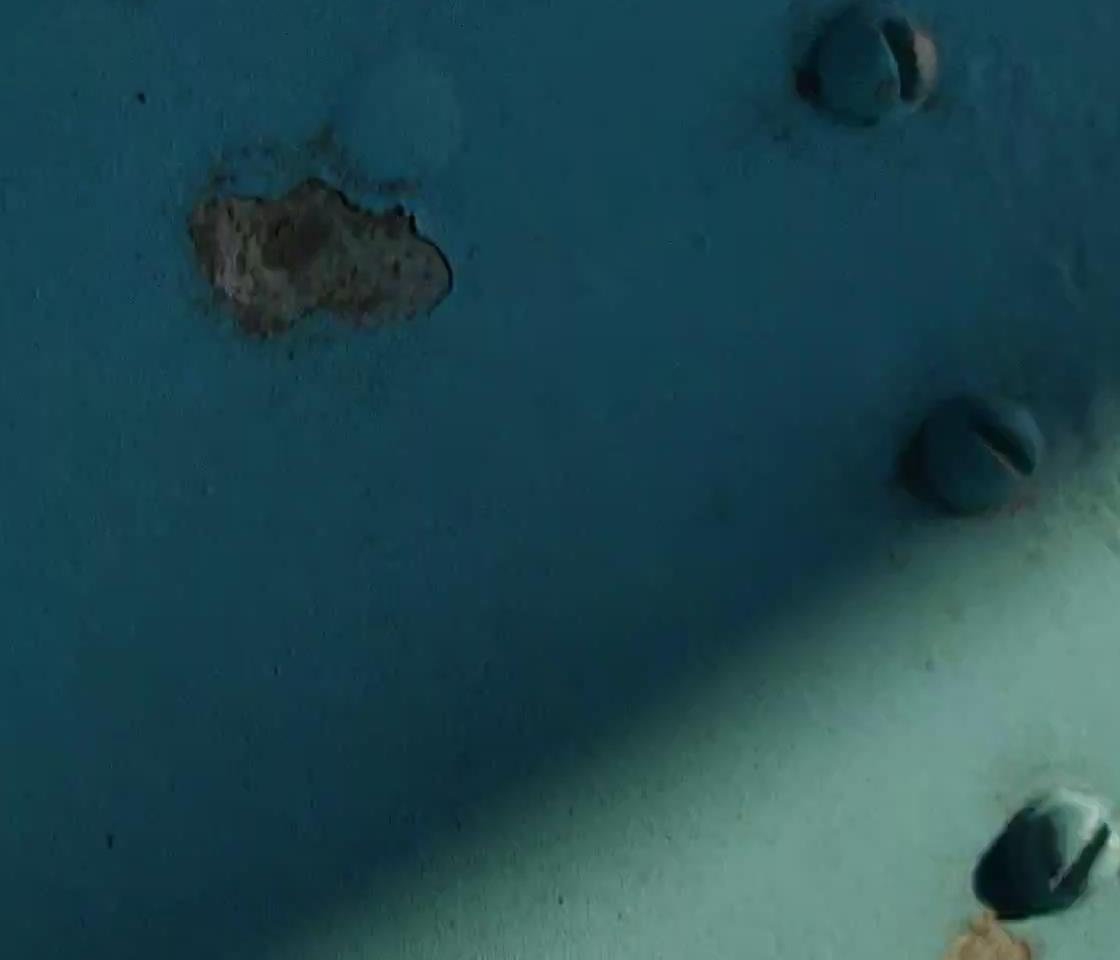paint_peel: (169, 171, 476, 350), (927, 904, 1047, 959)
